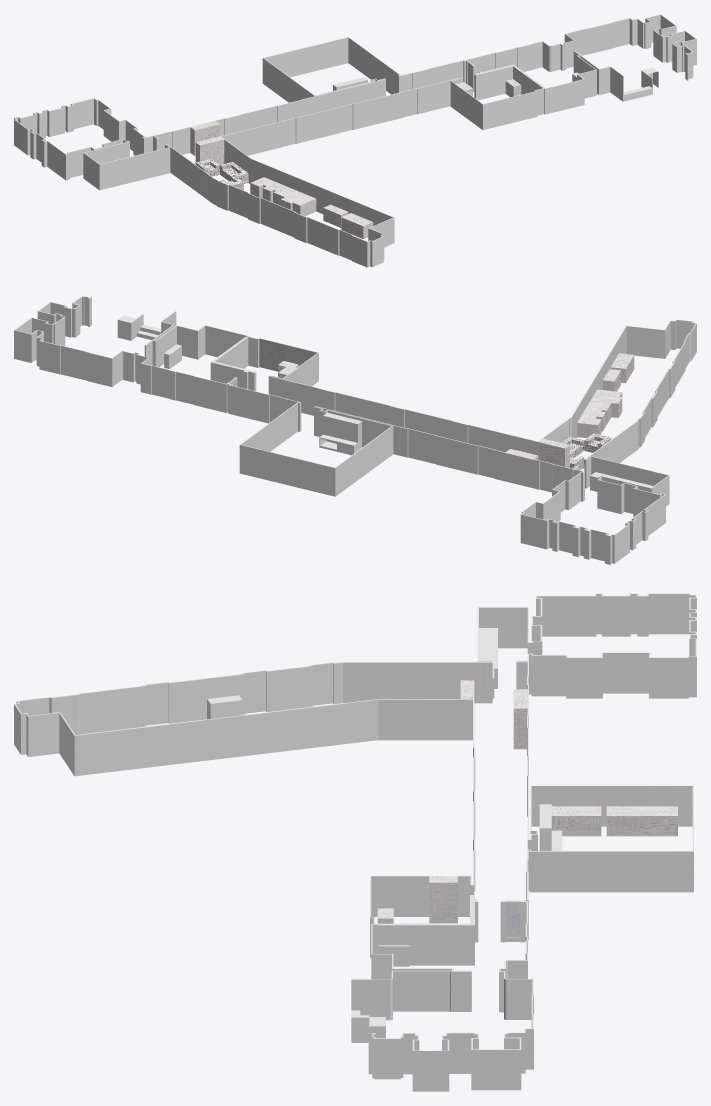
File: roblab_new_2.dae
The picture shows the model from 3 angles, top to bottom: view 1: azimuth 30°, elevation 25°; view 2: azimuth 150°, elevation 25°; view 3: azimuth 270°, elevation 25°; orthographic projection. The views are drawn at different scales.
Visible parts, largest first — view 1: map_3.dxf (×8); view 2: map_3.dxf (×9); view 3: map_3.dxf (×8).
Boxes of the visible parts, box(x1,y1,x2,y2) form: map_3.dxf (×8): box(14, 14, 696, 267); map_3.dxf (×9): box(14, 296, 696, 564); map_3.dxf (×8): box(14, 593, 696, 1091).
Size of the model in its own units: 1526 by 962 by 63.78.
